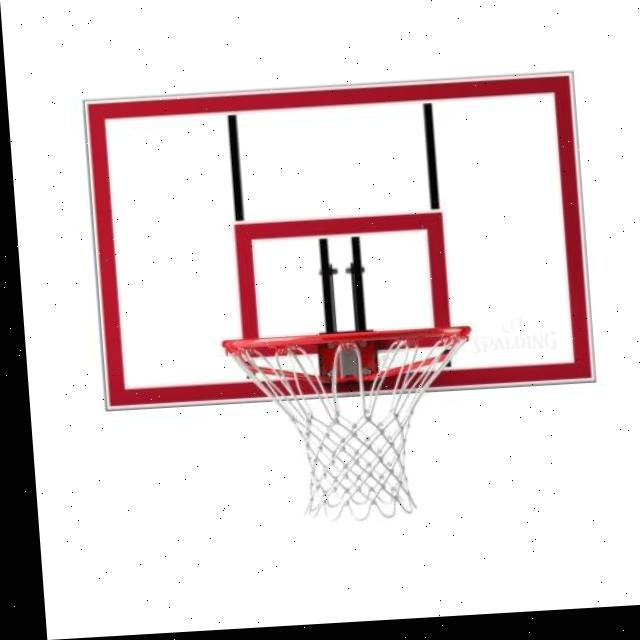hoop: (222, 326, 485, 528)
